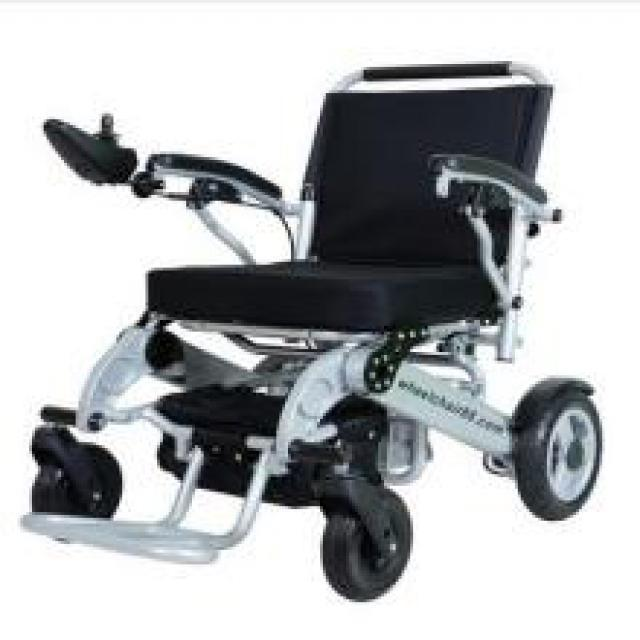wheelchairs: (24, 70, 606, 598)
